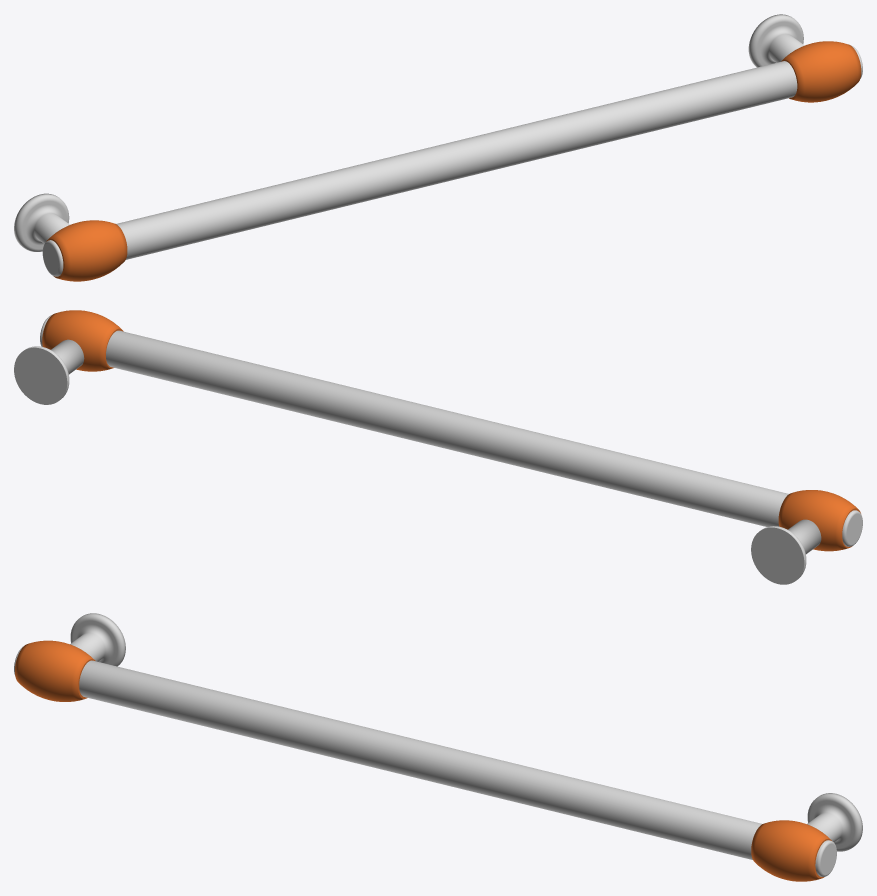
File: furniture_handle_9.glb
3 renders of one model, top to bottom at view 1: azimuth 30°, elevation 25°; view 2: azimuth 150°, elevation 25°; view 3: azimuth 330°, elevation 25°, orthographic.
Visible parts, largest first — view 1: G-Object.059, G-Object.057, G-Object.056, G-Object.058, G-Object.055; view 2: G-Object.059, G-Object.058, G-Object.055, G-Object.057, G-Object.056; view 3: G-Object.059, G-Object.056, G-Object.057, G-Object.055, G-Object.058.
Boxes of the visible parts, x1,y1,x2,y2 form: G-Object.059: (42,45,862,276); G-Object.057: (46,220,127,281); G-Object.056: (781,41,861,102); G-Object.058: (14,193,69,251); G-Object.055: (748,14,804,67); G-Object.059: (40,315,862,546); G-Object.058: (751,519,821,584); G-Object.055: (14,339,84,404); G-Object.057: (778,490,860,551); G-Object.056: (42,310,123,371); G-Object.059: (14,646,836,876); G-Object.056: (751,820,831,881); G-Object.057: (15,640,95,701); G-Object.055: (807,793,862,851); G-Object.058: (70,613,125,666).
Bounding box in the file's own units: 0.348 × 0.0239 × 0.044.
